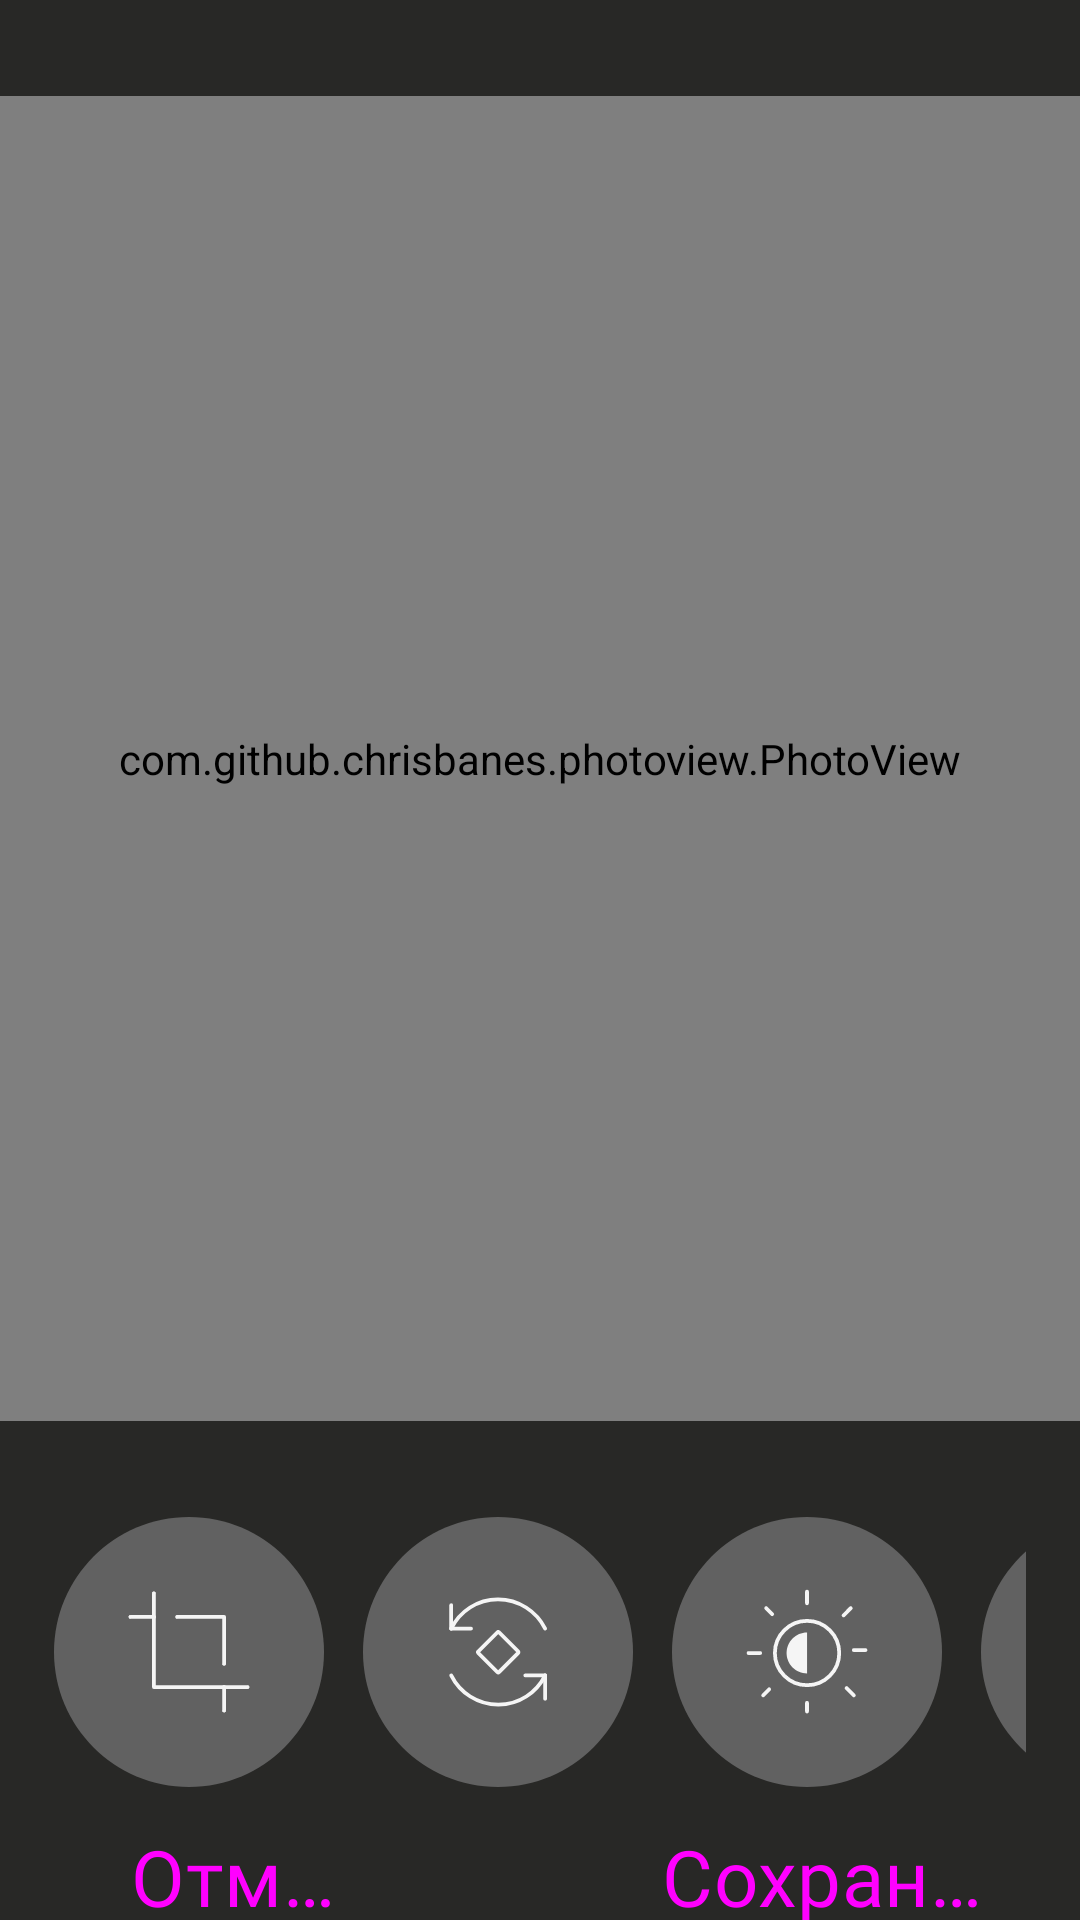

Icons on this 1080×1920 Android screen, each with the point to tap as point (x, y):
brightness: point (807, 1652)
cut: point (189, 1652)
rotate: point (498, 1652)
